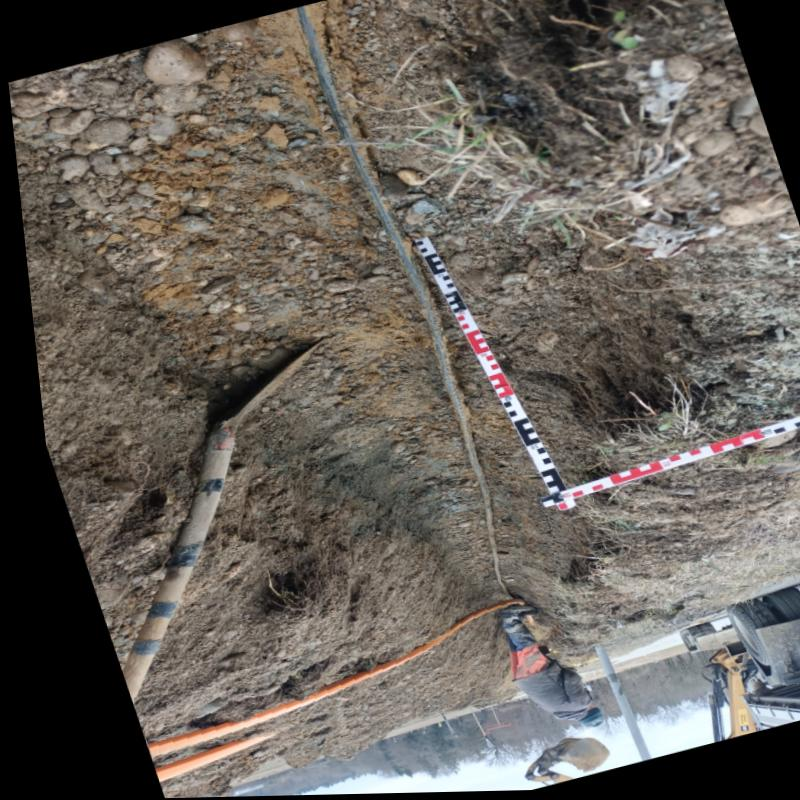Orang-Speednetrohrchen: (133, 603, 493, 762)
